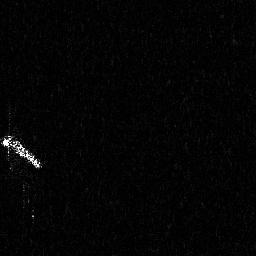ship: (1, 132, 45, 170)
